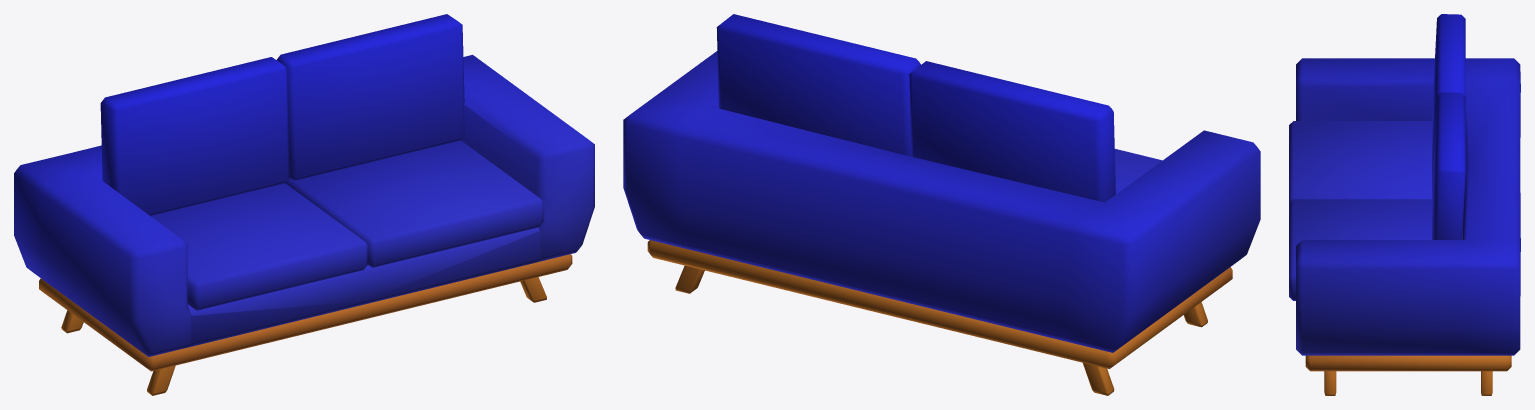
File: MediumSofa.fbx
3 views of the same model, side by side, from view 1: azimuth 30°, elevation 25°; view 2: azimuth 150°, elevation 25°; view 3: azimuth 270°, elevation 25° (orthographic). The views are drawn at different scales.
Visible parts, largest first — view 1: MediumSofa; view 2: MediumSofa; view 3: MediumSofa.
Boxes of the visible parts, x1,y1,x2,y2 form: MediumSofa: (14, 14, 594, 395); MediumSofa: (623, 14, 1260, 395); MediumSofa: (1289, 14, 1520, 395).
Size of the model in its own units: 3.81 by 8.08 by 3.95.
